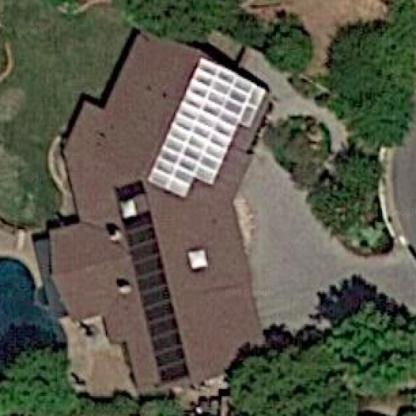solar_panel: (140, 54, 269, 200), (113, 186, 197, 390)
swimming_pool: (2, 246, 78, 380)
